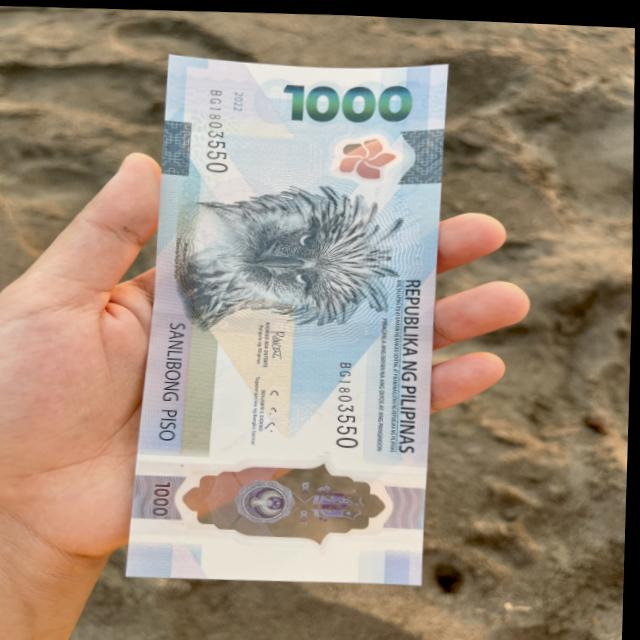clear_window: (127, 439, 428, 557)
eagle: (161, 168, 410, 330)
sampaguita: (316, 123, 414, 189)
